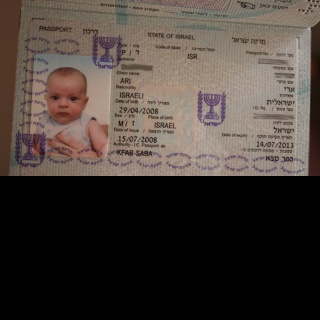without_mask: (44, 76, 85, 124)
